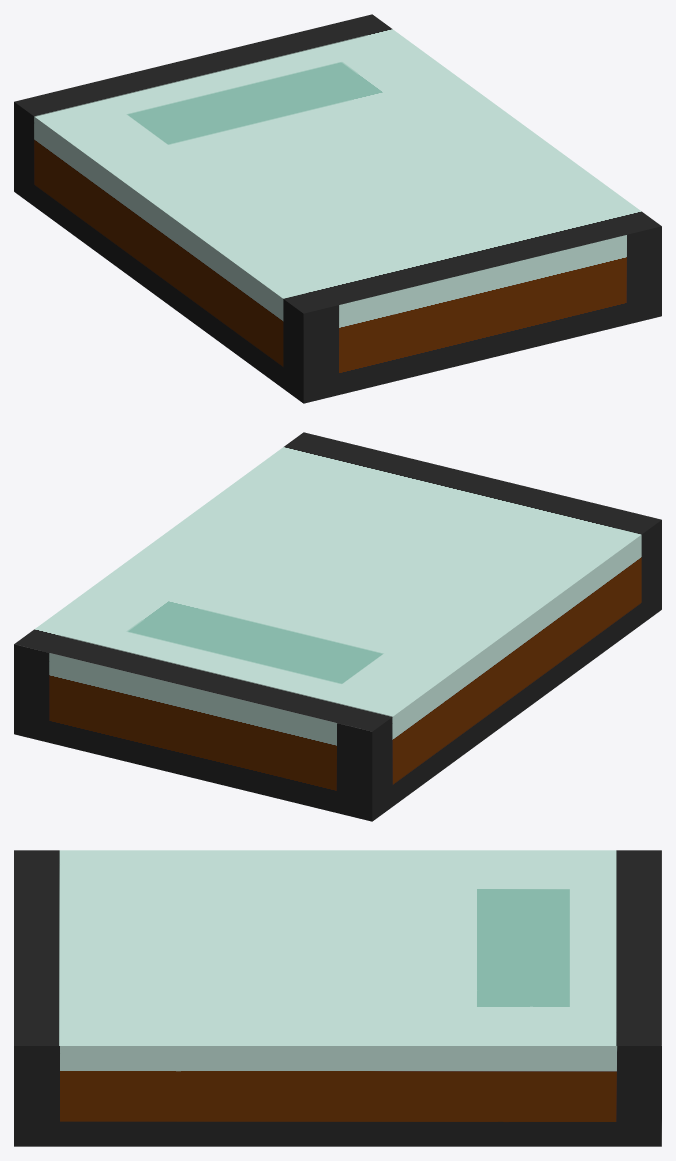
File: bedroom_bed.glb
3 renders of one model, top to bottom at view 1: azimuth 30°, elevation 25°; view 2: azimuth 150°, elevation 25°; view 3: azimuth 270°, elevation 25°, orthographic. The views are drawn at different scales.
Parts seen in each view (by area): view 1: Bed; view 2: Bed; view 3: Bed.
Part boxes in pixels (<box>): Bed: <box>14,14,661,403</box>; Bed: <box>14,432,661,821</box>; Bed: <box>14,850,661,1146</box>.
Bounding box in the file's own units: 2.5 × 0.6 × 3.5.
1 material, 1 textured.
